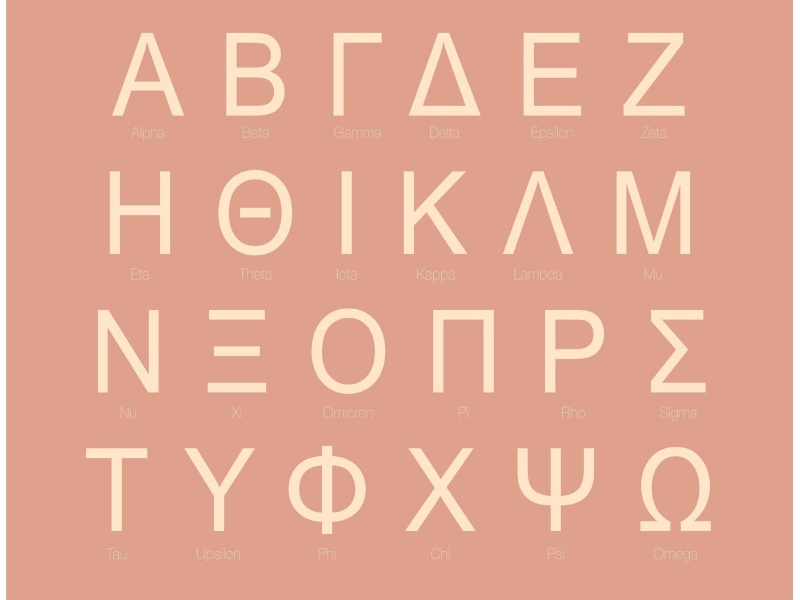letter: (398, 431, 489, 539), (72, 441, 169, 537), (612, 19, 699, 122), (80, 295, 171, 393), (611, 164, 702, 260), (103, 27, 194, 117), (180, 441, 266, 534), (101, 163, 185, 257), (400, 154, 472, 256), (218, 24, 291, 120), (534, 301, 607, 396), (516, 25, 588, 120), (316, 308, 383, 397), (322, 168, 374, 258)
